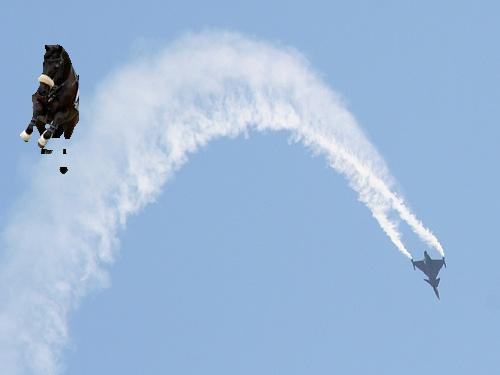tampered: (21, 45, 79, 174)
